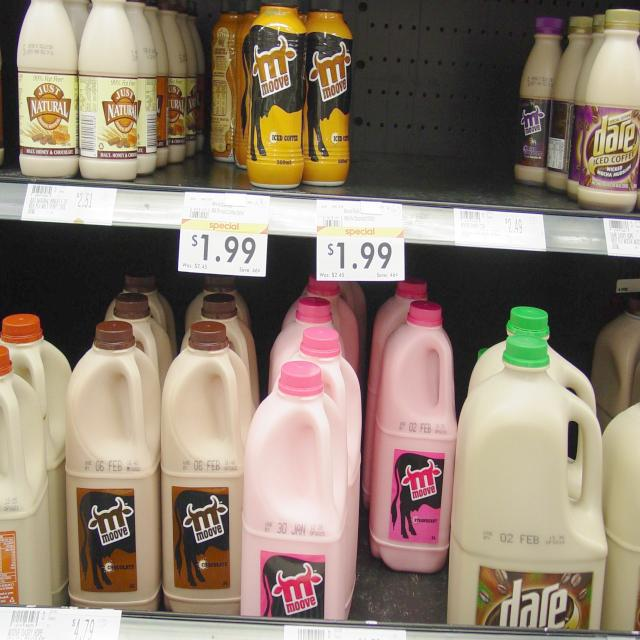empty_space: (360, 15, 516, 187)
